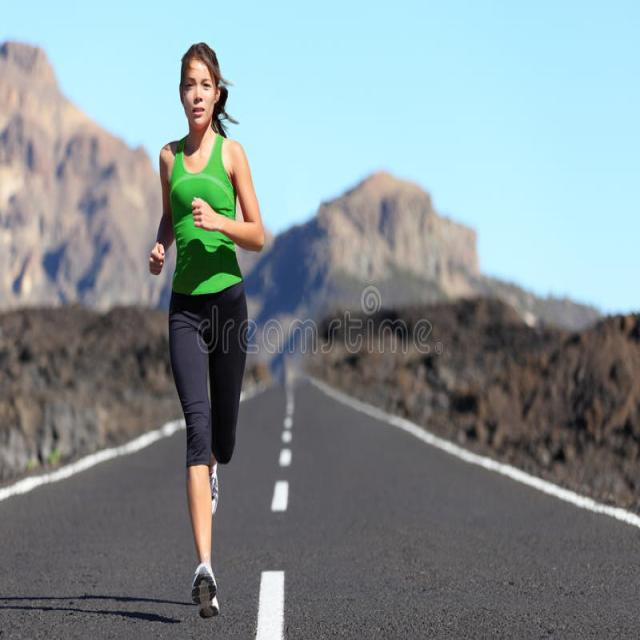running: (148, 41, 270, 623)
